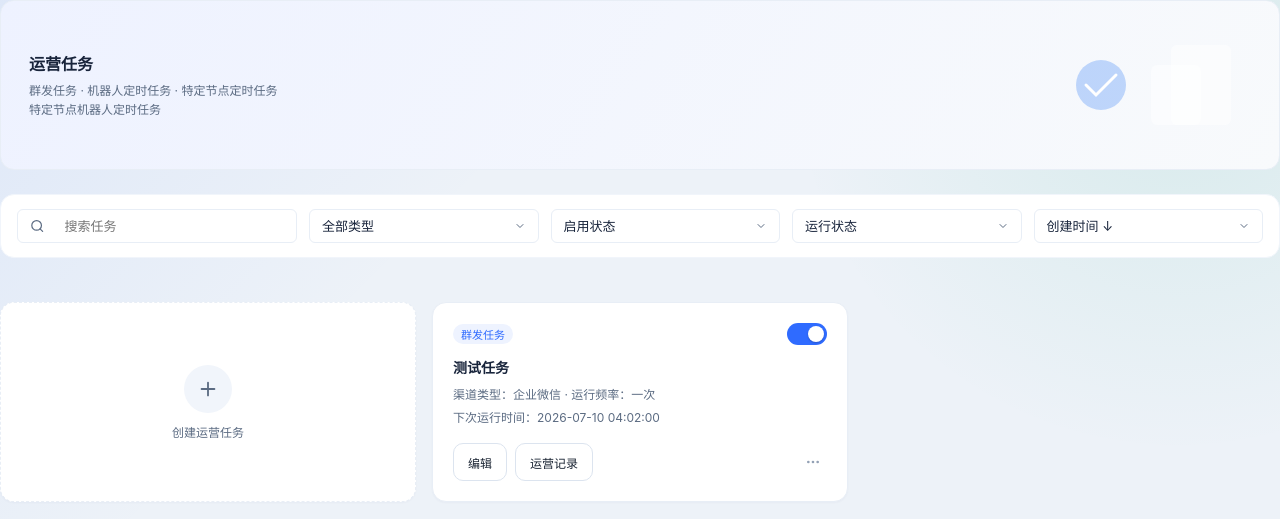
Test: 运营任务页 - 原型对齐验收 › 任务卡片包含"更多操作"按钮（...），点击弹出删除菜单
Expected: the text "测试任务" is shown, top-left (453, 359), bottom-right (509, 376)
Click the button named "更多操作" at (813, 462), box top-left (799, 448), bottom-right (827, 476)
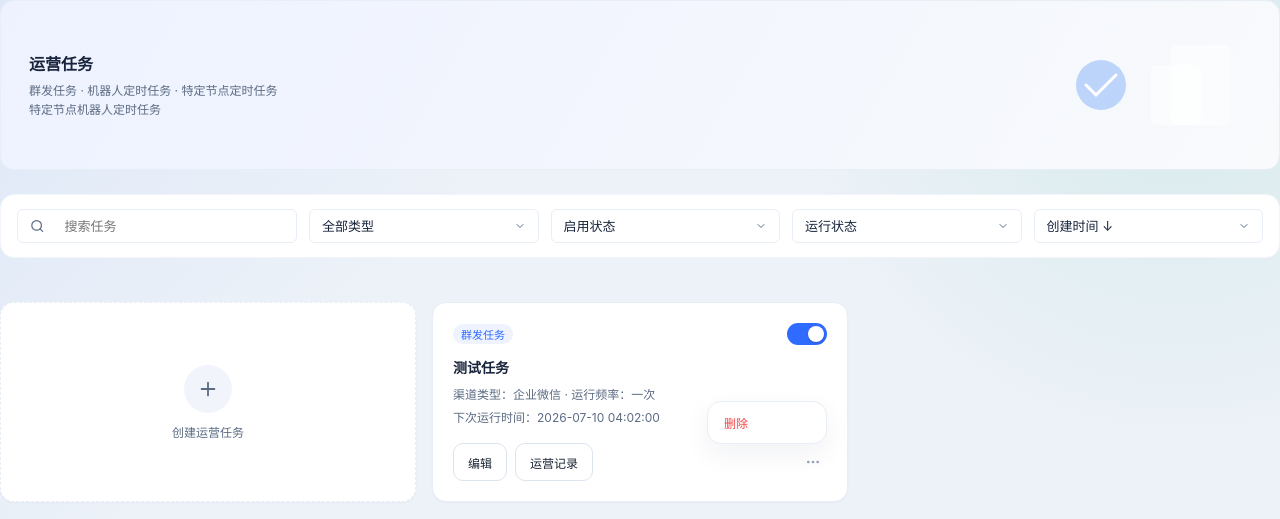
Now the button "删除" is shown, box top-left (712, 406), bottom-right (822, 439)
